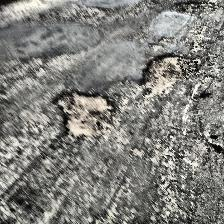pothole: (50, 88, 118, 138), (139, 53, 194, 99), (172, 0, 218, 14)
